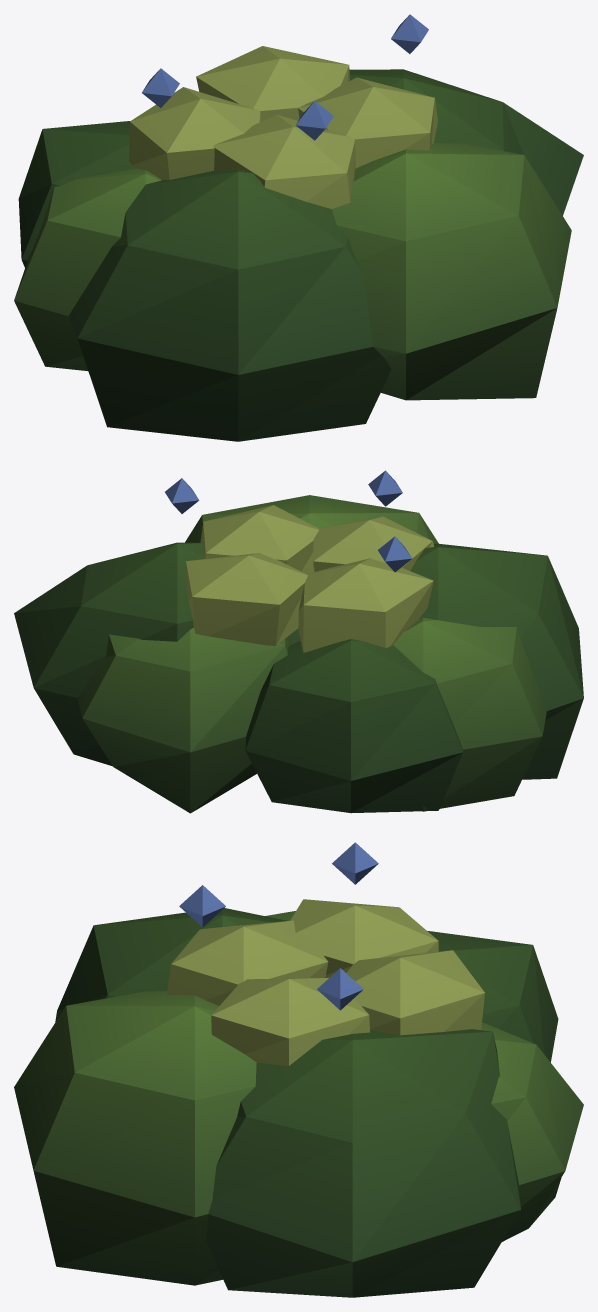
File: fern_bush.glb
3 renders of one model, top to bottom at view 1: azimuth 30°, elevation 25°; view 2: azimuth 150°, elevation 25°; view 3: azimuth 270°, elevation 25°, orthographic. The views are drawn at different scales.
Parts seen in each view (by area): view 1: fern_bush; view 2: fern_bush; view 3: fern_bush.
Part boxes in pixels (x1,y1,x2,y2): fern_bush: [14, 14, 583, 441]; fern_bush: [14, 470, 583, 813]; fern_bush: [14, 842, 583, 1297].
Size of the model in its own units: 1.5 by 0.7866 by 1.21.
